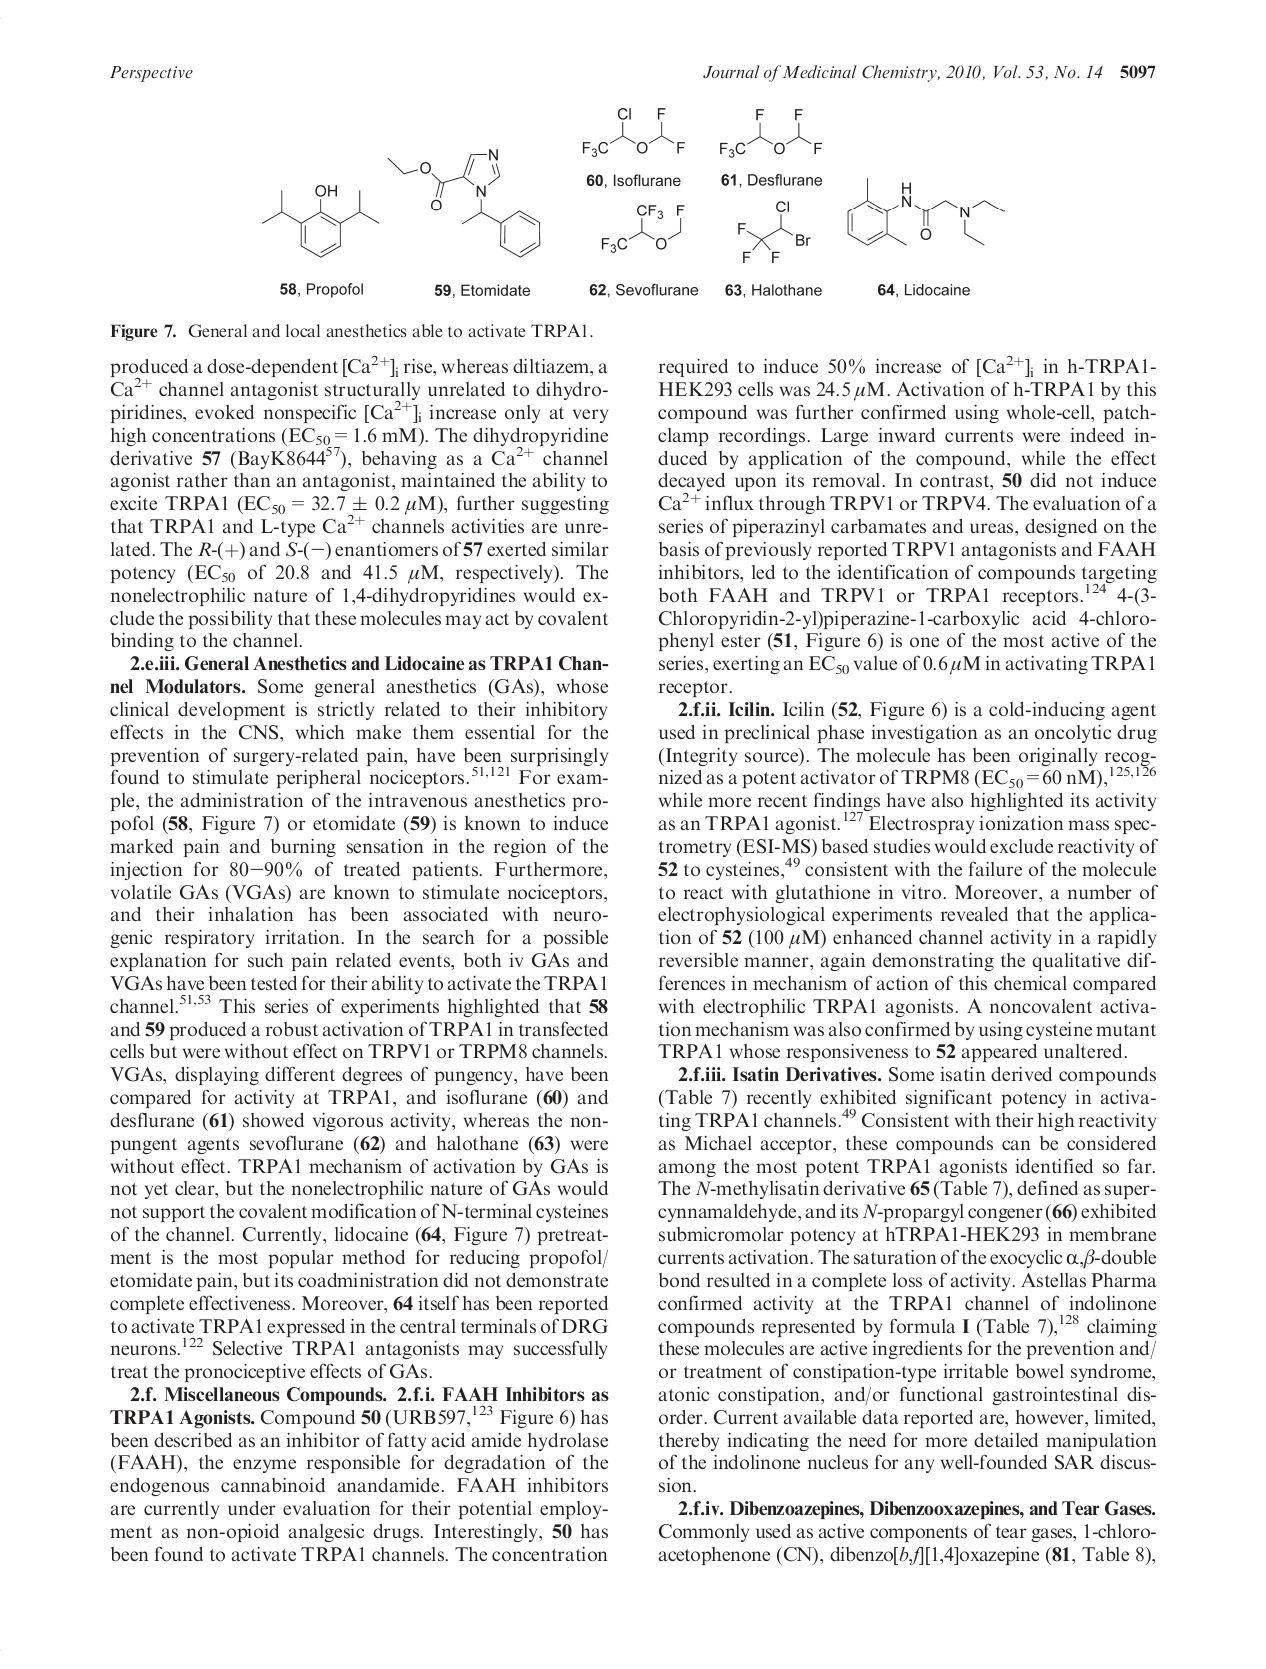exist_molecular: (382, 144, 544, 263), (840, 176, 1020, 254), (255, 181, 386, 255), (572, 93, 690, 170), (597, 197, 699, 263), (729, 197, 821, 270), (718, 104, 823, 168)
